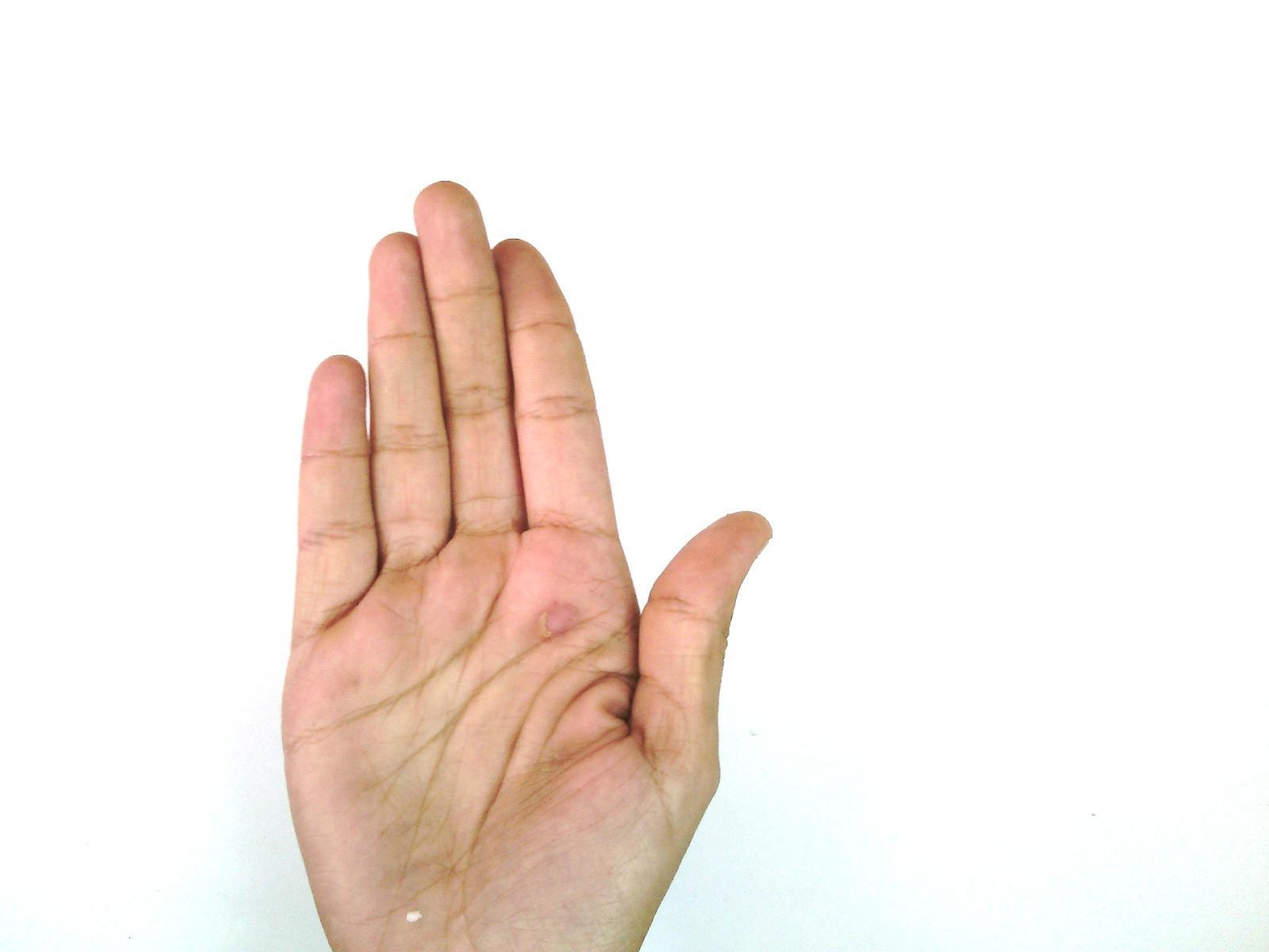open_palm: (278, 179, 775, 951)
